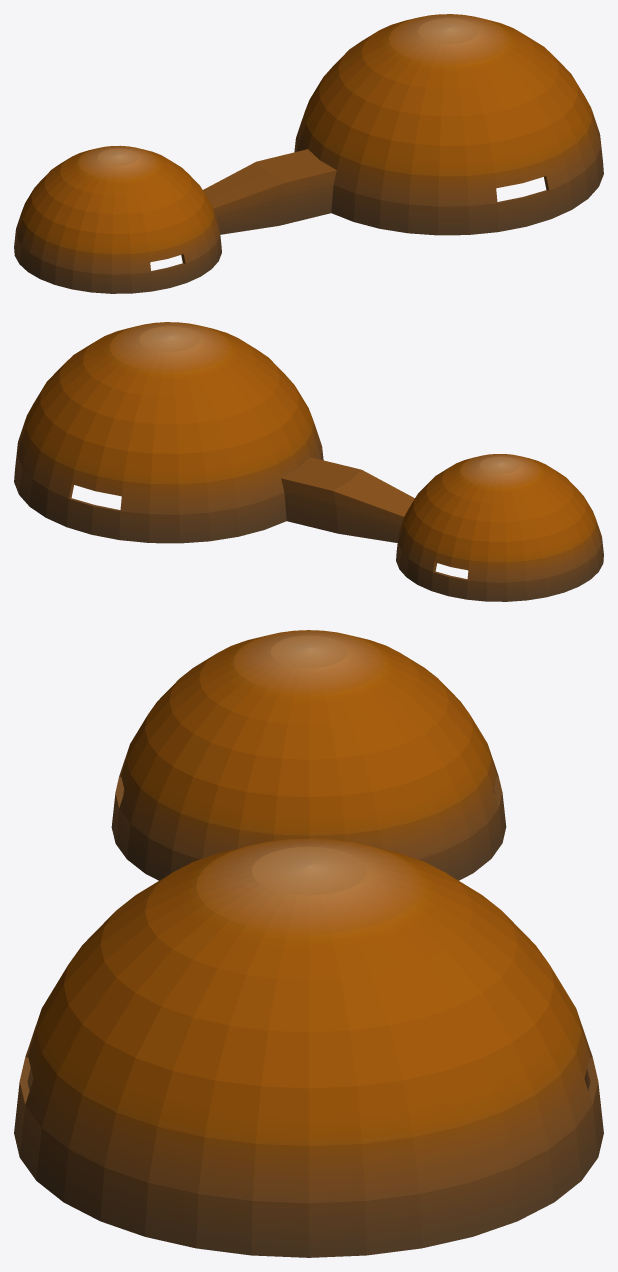
Rendered from SM_Bld_Domo.fbx.
The picture shows the model from 3 angles, top to bottom: view 1: azimuth 30°, elevation 25°; view 2: azimuth 150°, elevation 25°; view 3: azimuth 270°, elevation 25°; orthographic projection. The views are drawn at different scales.
Parts seen in each view (by area): view 1: SM_Bld_Domo; view 2: SM_Bld_Domo; view 3: SM_Bld_Domo.
Boxes of the visible parts, <box> form: SM_Bld_Domo: <box>14,14,603,293</box>; SM_Bld_Domo: <box>14,322,603,601</box>; SM_Bld_Domo: <box>14,630,603,1257</box>.
Size of the model in its own units: 30.99 by 7.55 by 15.05.
